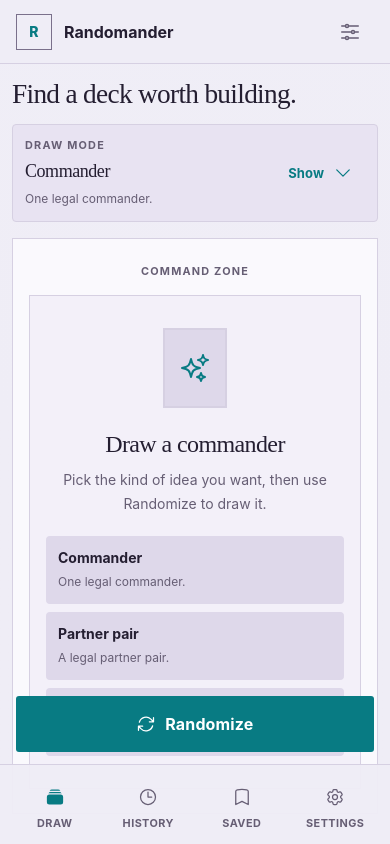
Test: Randomander › keeps mobile draw controls compact until the user expands them
The image size is (390, 844).
Expected: the heading "Commander" is shown, top-left (25, 157), bottom-right (110, 185)
Expected: the button "Randomize" is shown, top-left (16, 696), bottom-right (374, 752)
Click the button with aria-label "show draw controls" at (321, 173), box top-left (276, 151), bottom-right (365, 195)
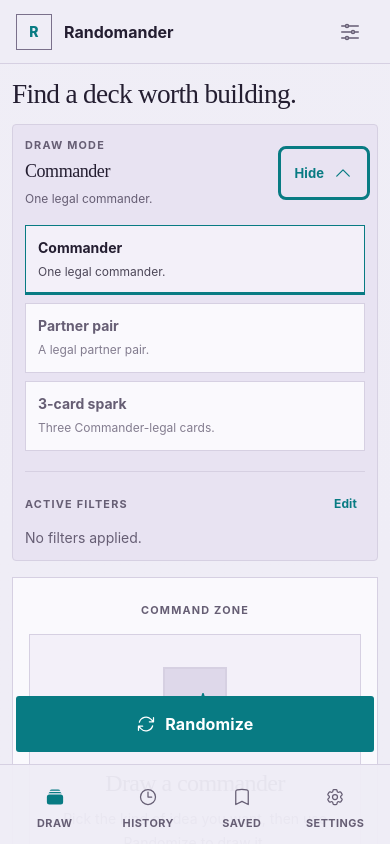
Expected: the button with aria-label "hide draw controls" is expanded
Click the button with aria-label "hide draw controls" at (324, 173), box top-left (282, 151), bottom-right (365, 195)
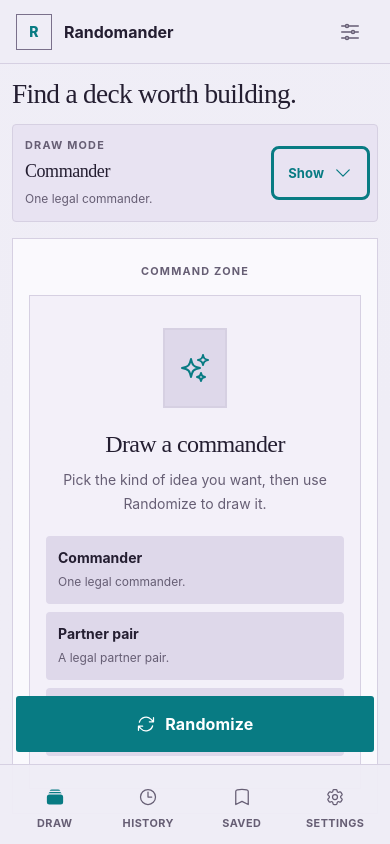
Expected: the button with aria-label "show draw controls" is collapsed, top-left (276, 151), bottom-right (365, 195)
